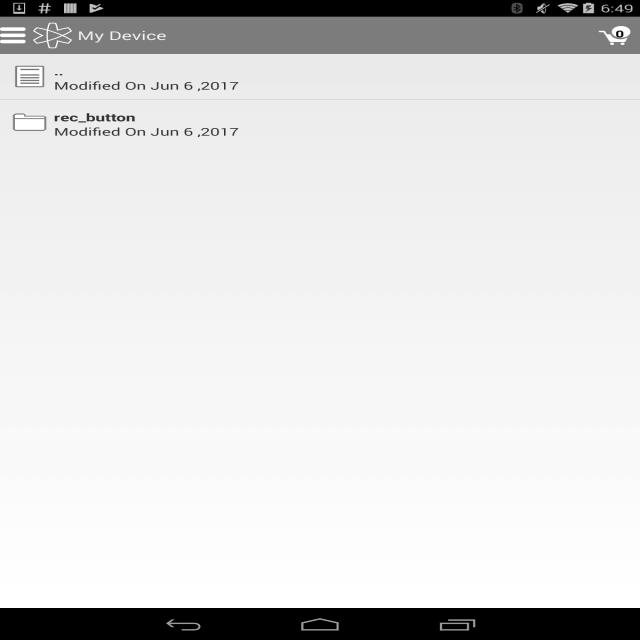ImageView: (22, 19, 73, 52), (589, 25, 640, 46), (11, 65, 48, 88), (11, 111, 48, 134), (0, 28, 26, 44)
TextView: (54, 64, 629, 78), (54, 110, 629, 124), (54, 78, 485, 93), (54, 124, 485, 139), (486, 78, 630, 93), (486, 124, 630, 139), (77, 27, 166, 43), (605, 27, 624, 40)
